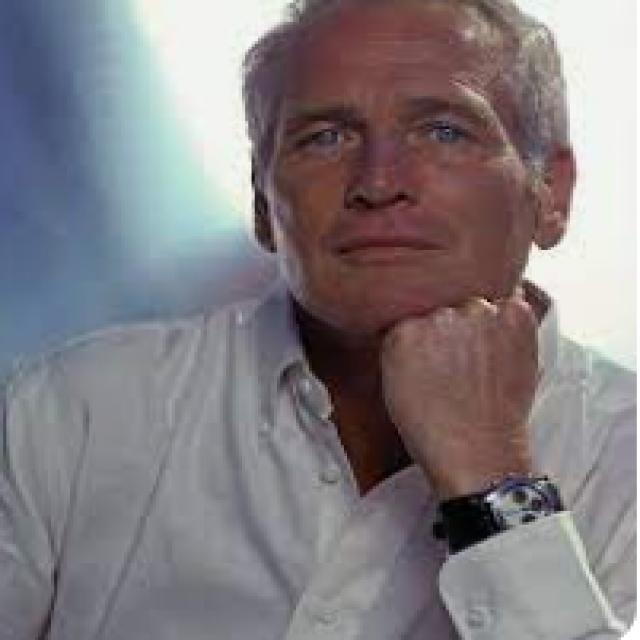Watch: (430, 471, 567, 561)
